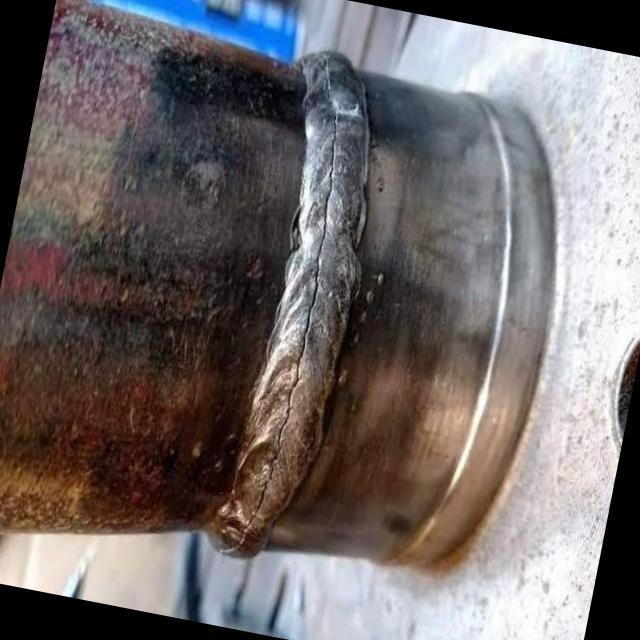defect: (218, 53, 341, 557)
